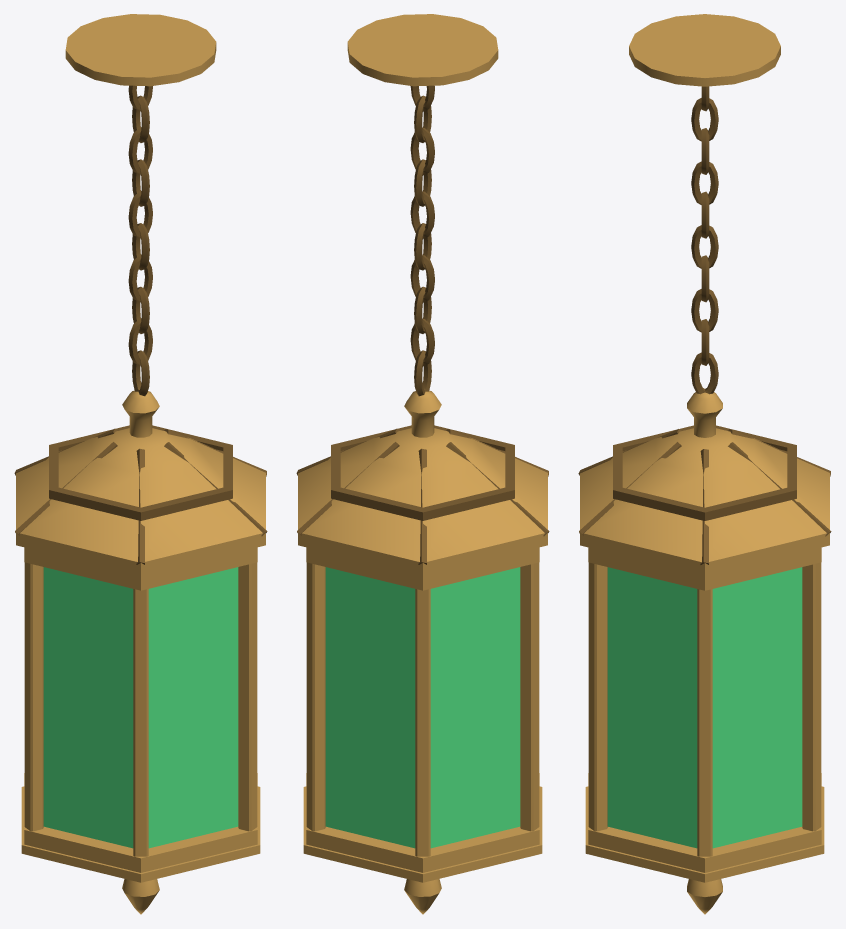
Rendered from lantern_green.glb.
3 views of the same model, side by side, from view 1: azimuth 30°, elevation 25°; view 2: azimuth 150°, elevation 25°; view 3: azimuth 270°, elevation 25° (orthographic).
Parts seen in each view (by area): view 1: brass, scheiben, brass_d; view 2: brass, scheiben, brass_d; view 3: brass, scheiben, brass_d.
Boxes of the visible parts, x1,y1,x2,y2 form: brass: (16, 14, 265, 914); scheiben: (43, 567, 238, 848); brass_d: (14, 85, 267, 564); brass: (298, 14, 547, 914); scheiben: (325, 567, 520, 848); brass_d: (296, 85, 549, 564); brass: (580, 14, 829, 914); scheiben: (607, 567, 802, 848); brass_d: (578, 86, 831, 564).
Bounding box in the file's own units: 0.3051 × 1.01 × 0.2666.
